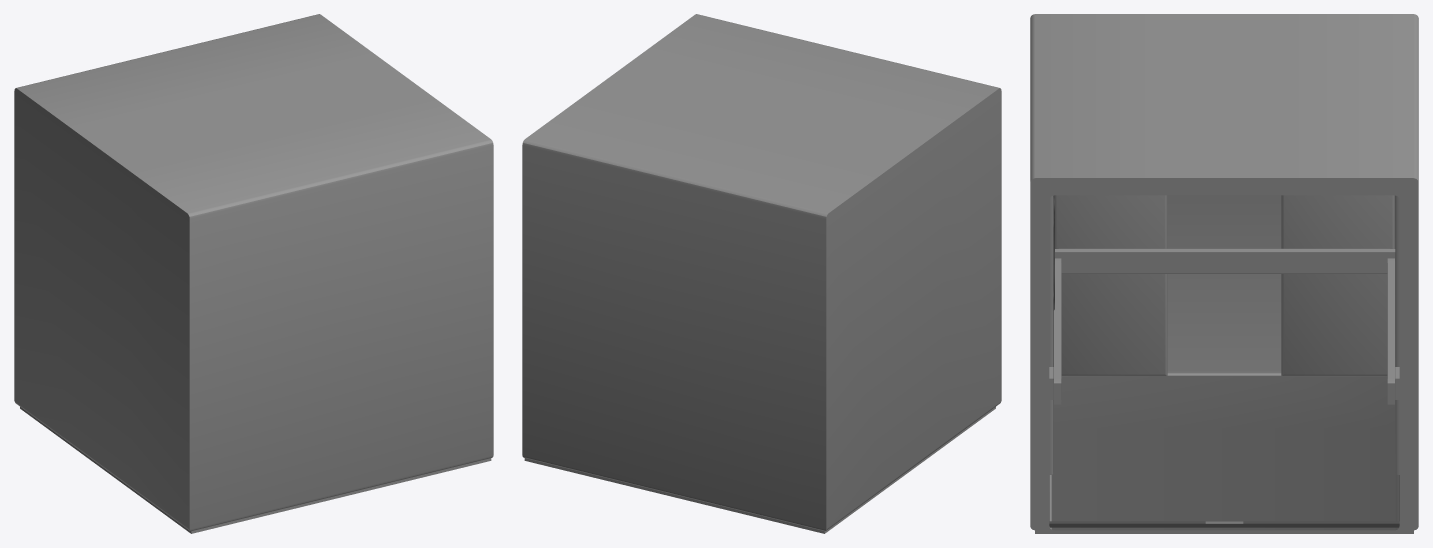
Rendered from Elevator.fbx.
The picture shows the model from 3 angles, left to right: view 1: azimuth 30°, elevation 25°; view 2: azimuth 150°, elevation 25°; view 3: azimuth 270°, elevation 25°; orthographic projection. The views are drawn at different scales.
Parts seen in each view (by area): view 1: Elevator; view 2: Elevator; view 3: Elevator.
Part boxes in pixels (x1,y1,x2,y2): Elevator: (14, 14, 493, 533); Elevator: (522, 14, 1001, 533); Elevator: (1030, 14, 1418, 533).
Bounding box in the file's own units: 2073 × 2096 × 2073.
